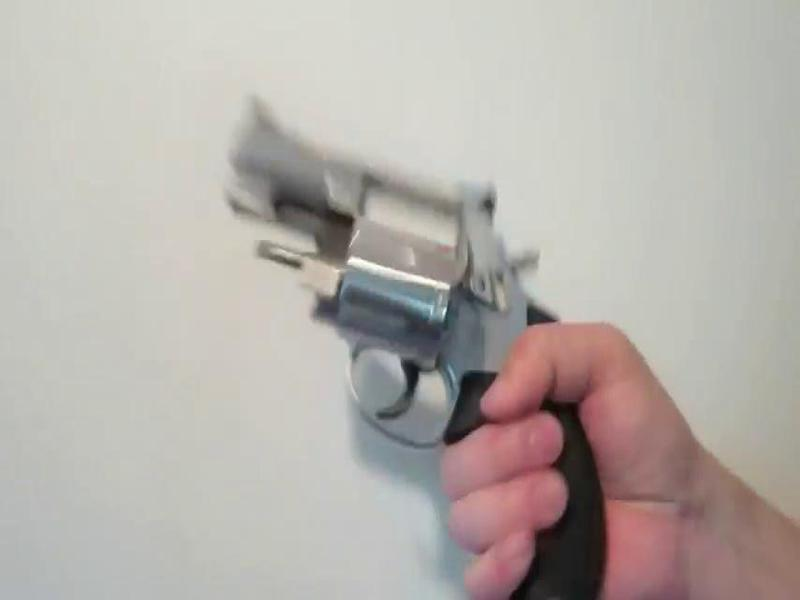Revolver: (197, 98, 611, 492)
